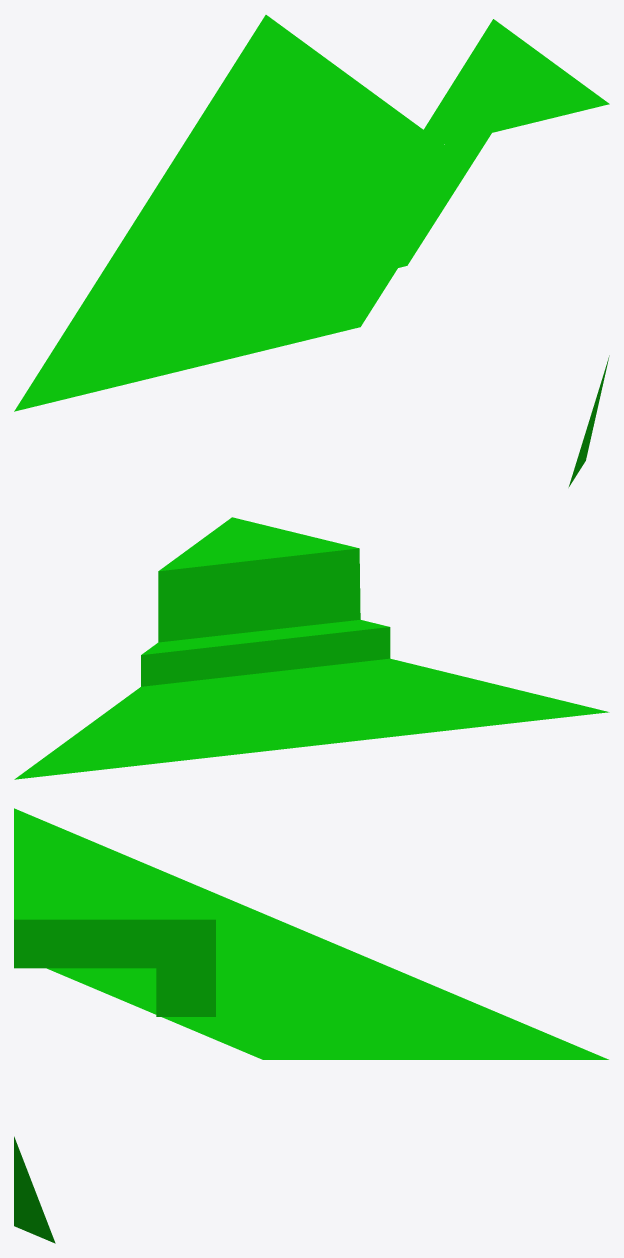
The model's file is Filler_TopFloor.glb.
3 views of the same model, one above another, from view 1: azimuth 30°, elevation 25°; view 2: azimuth 150°, elevation 25°; view 3: azimuth 270°, elevation 25° (orthographic). The views are drawn at different scales.
Visible parts, largest first — view 1: Filler_TopFloor; view 2: Filler_TopFloor; view 3: Filler_TopFloor.
Boxes of the visible parts, x1,y1,x2,y2 form: Filler_TopFloor: (14, 15, 609, 487); Filler_TopFloor: (14, 517, 609, 779); Filler_TopFloor: (14, 808, 608, 1243).
Size of the model in its own units: 0.5 by 0.3 by 0.5.
